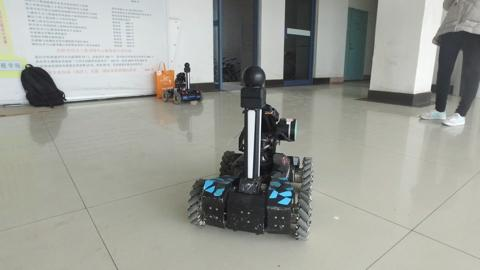bag: (17, 61, 69, 109), (151, 58, 177, 99)
chariot: (187, 63, 314, 241), (161, 59, 205, 105)
